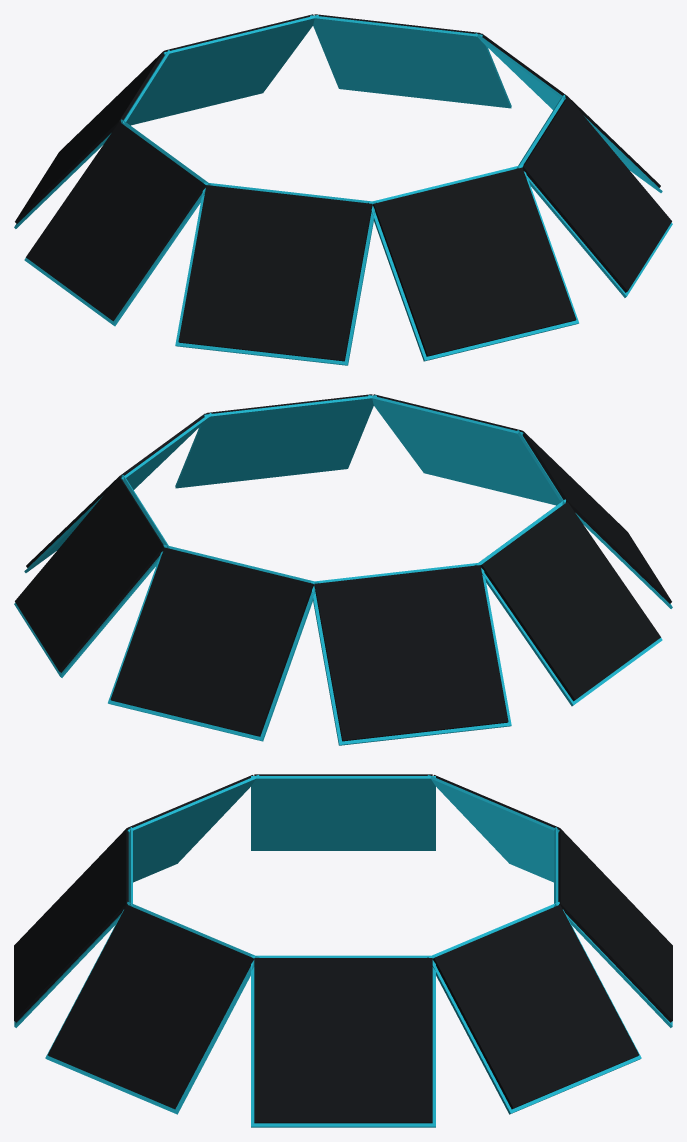
File: n10_array.obj
The picture shows the model from 3 angles, top to bottom: view 1: azimuth 30°, elevation 25°; view 2: azimuth 150°, elevation 25°; view 3: azimuth 270°, elevation 25°; orthographic projection. The views are drawn at different scales.
Visible parts, largest first — view 1: n10_array; view 2: n10_array; view 3: n10_array.
Part boxes in pixels (x1,y1,x2,y2): n10_array: [14, 14, 672, 365]; n10_array: [14, 394, 672, 745]; n10_array: [14, 774, 672, 1127].
Bounding box in the file's own units: 2.82 × 0.5825 × 2.82.
